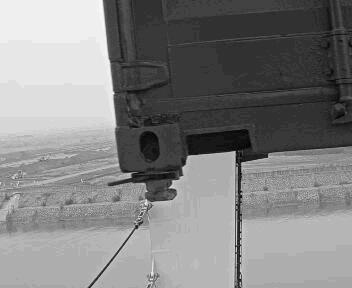twist_lock_1: (121, 164, 189, 212)
